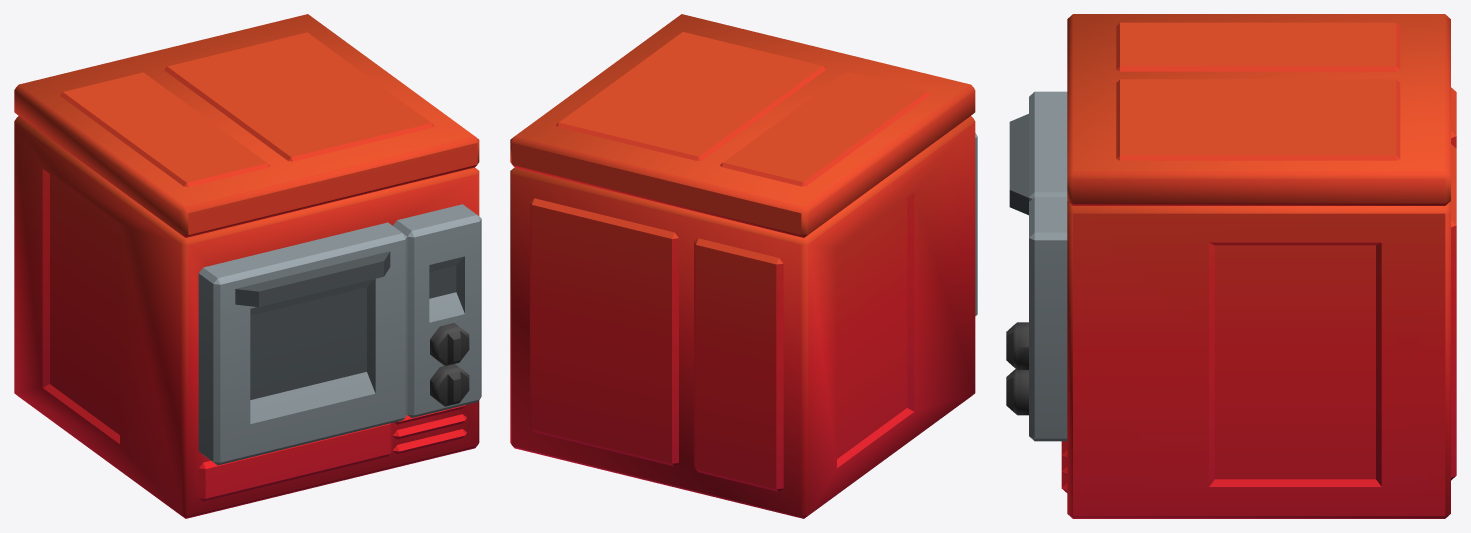
Rendered from oven.glb.
3 renders of one model, left to right at view 1: azimuth 30°, elevation 25°; view 2: azimuth 150°, elevation 25°; view 3: azimuth 270°, elevation 25°, orthographic. The views are drawn at different scales.
Visible parts, largest first — view 1: oven, oven_door; view 2: oven, oven_door; view 3: oven, oven_door.
Part boxes in pixels (x1,y1,x2,y2): oven: (14, 14, 481, 518); oven_door: (198, 222, 407, 465); oven: (510, 14, 975, 518); oven_door: (975, 133, 977, 315); oven: (1006, 14, 1456, 518); oven_door: (1009, 91, 1067, 215).
Size of the model in its own units: 2 by 2.02 by 2.35.
1 material, 1 textured.
